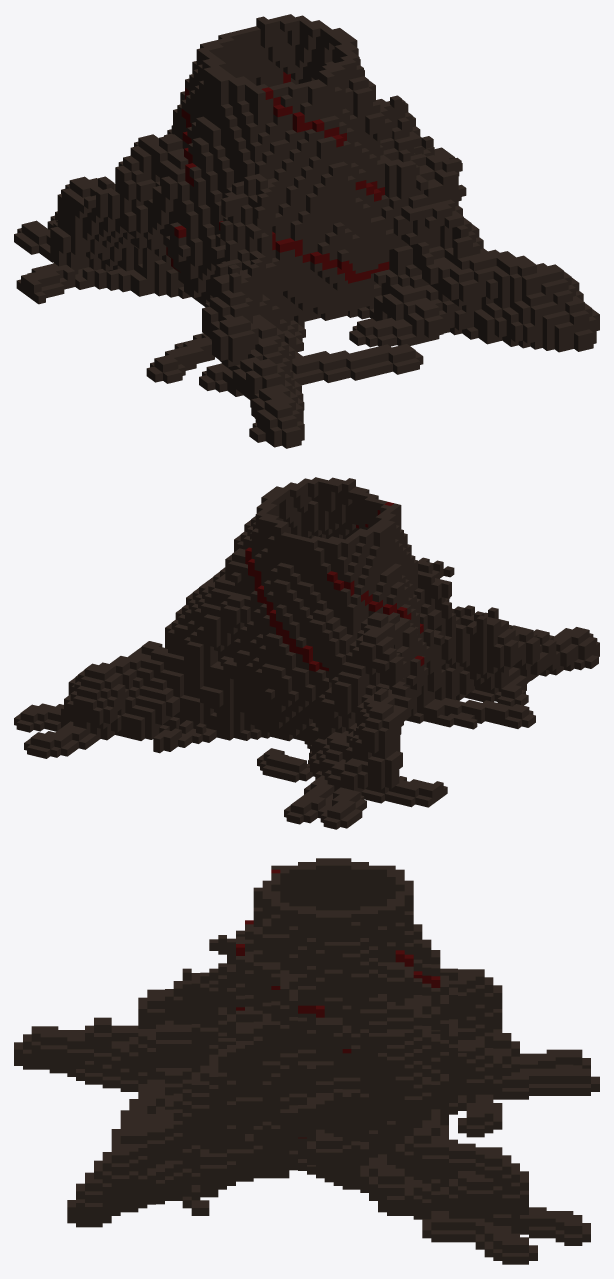
The model's file is bad-0.obj.
3 views of the same model, one above another, from view 1: azimuth 30°, elevation 25°; view 2: azimuth 150°, elevation 25°; view 3: azimuth 270°, elevation 25° (orthographic). The views are drawn at different scales.
Bounding box in the file's own units: 6 × 3.1 × 6.6.
Materials: 1 (1 with a texture image).
